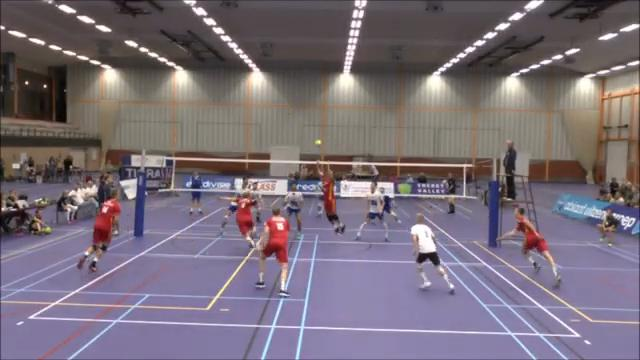Player: (498, 208, 561, 286), (77, 188, 120, 271), (411, 213, 453, 293), (256, 207, 289, 296), (220, 190, 256, 247), (355, 183, 388, 241), (218, 176, 248, 235), (284, 184, 303, 236), (379, 187, 400, 222), (251, 181, 261, 222), (316, 194, 323, 217)
Set: (314, 156, 348, 236)
ball: (313, 138, 322, 147)
